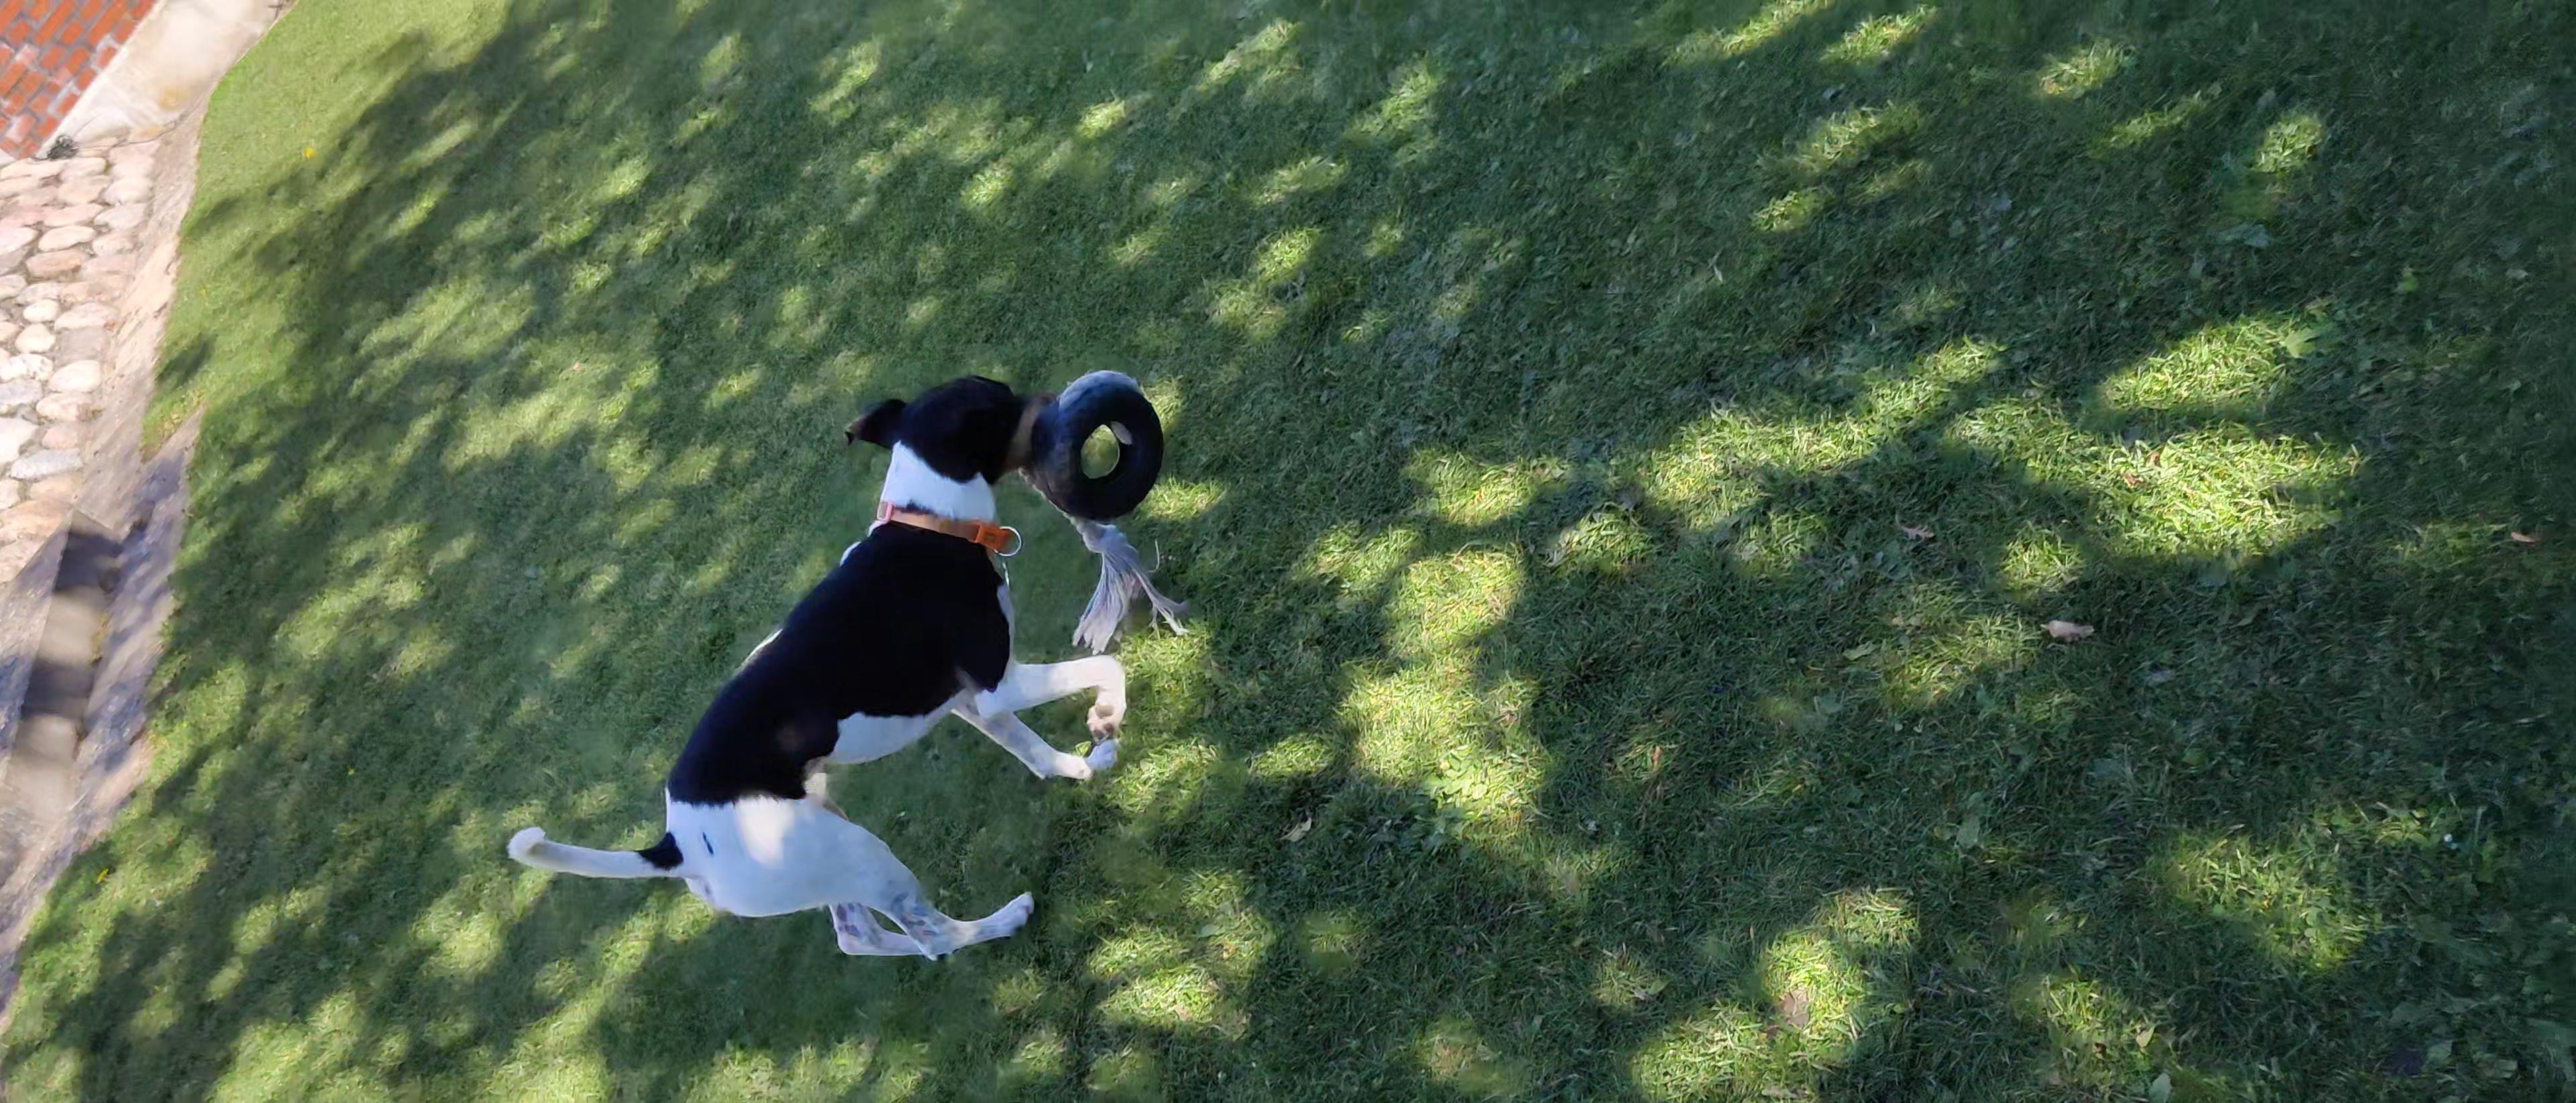Dog: (493, 363, 1138, 978)
